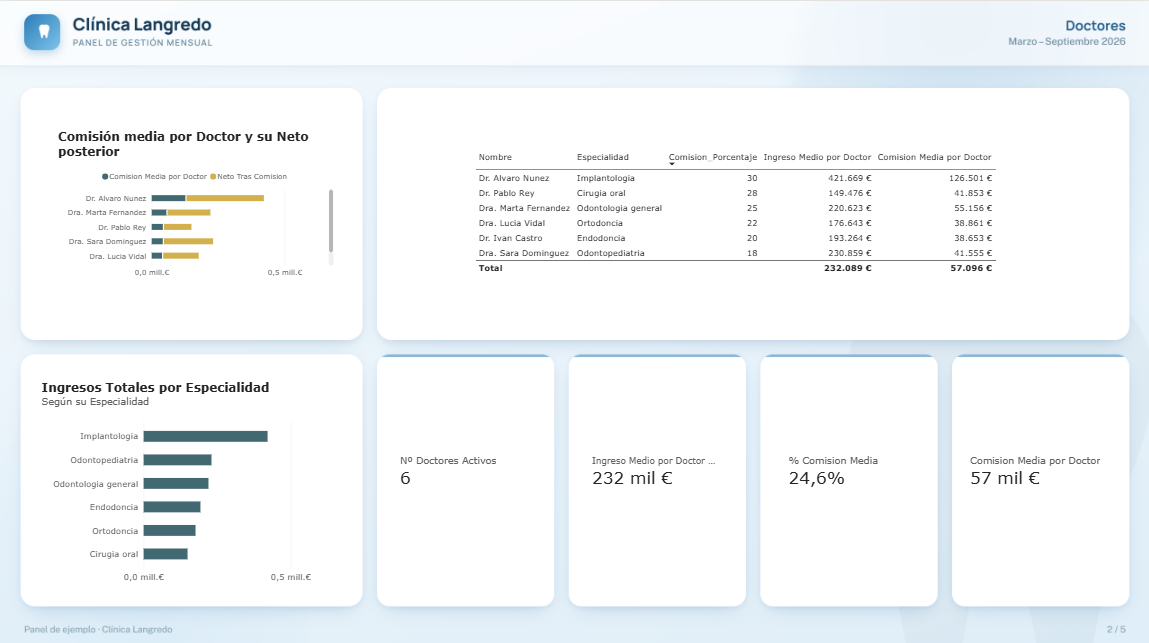

The dashboard page shown, as its layout file describes it:
{"tool":"powerbi","page":{"name":"Doctores","canvas":[1920,1080],"ordinal":1},"visuals":[{"type":"barChart","title":"Comisión media por Doctor y su Neto posterior","fields":{"Category":["doctores.Nombre"],"Y":["_Medidas.Comision Media por Doctor","_Medidas.Neto Tras Comision"]},"box":[82.5,200,491,280],"z":0},{"type":"tableEx","fields":{"Values":["doctores.Nombre","doctores.Especialidad","doctores.Comision_Porcentaje","_Medidas.Ingreso Medio por Doctor","_Medidas.Comision Media por Doctor"]},"box":[777.5,232.5,982.5,590],"z":1000},{"type":"barChart","fields":{"Category":["doctores.Especialidad"],"Y":["_Medidas.Ingresos Totales"]},"box":[55,617.5,530,371.2],"z":2000},{"type":"cardVisual","fields":{"Data":["_Medidas.Nº Doctores Activos"]},"box":[652.9,644.3,247.1,280],"z":3000},{"type":"cardVisual","fields":{"Data":["_Medidas.Ingreso Medio por Doctor (miles)"]},"box":[971.4,644.3,241.4,280],"z":4000},{"type":"cardVisual","fields":{"Data":["_Medidas.Comision Media por Doctor"]},"box":[1601.4,644.3,255.7,280],"z":5000},{"type":"cardVisual","fields":{"Data":["_Medidas.% Comision Media"]},"box":[1300,644.3,225.7,280],"z":6000}]}

Visuals, with their boxes in screenshot pixels (x1, y1, x2, y2), scaled from the page's 1920x1080 canvas onto the 1149x643 screenshot:
"Comisión media por Doctor y su Neto posterior" barChart: bbox=[49, 119, 343, 286]
tableEx - doctores.Nombre x doctores.Especialidad: bbox=[465, 138, 1053, 490]
barChart - doctores.Especialidad x _Medidas.Ingresos Totales: bbox=[33, 368, 350, 589]
cardVisual - _Medidas.Nº Doctores Activos: bbox=[391, 384, 539, 550]
cardVisual - _Medidas.Ingreso Medio por Doctor (miles): bbox=[581, 384, 726, 550]
cardVisual - _Medidas.Comision Media por Doctor: bbox=[958, 384, 1111, 550]
cardVisual - _Medidas.% Comision Media: bbox=[778, 384, 913, 550]
